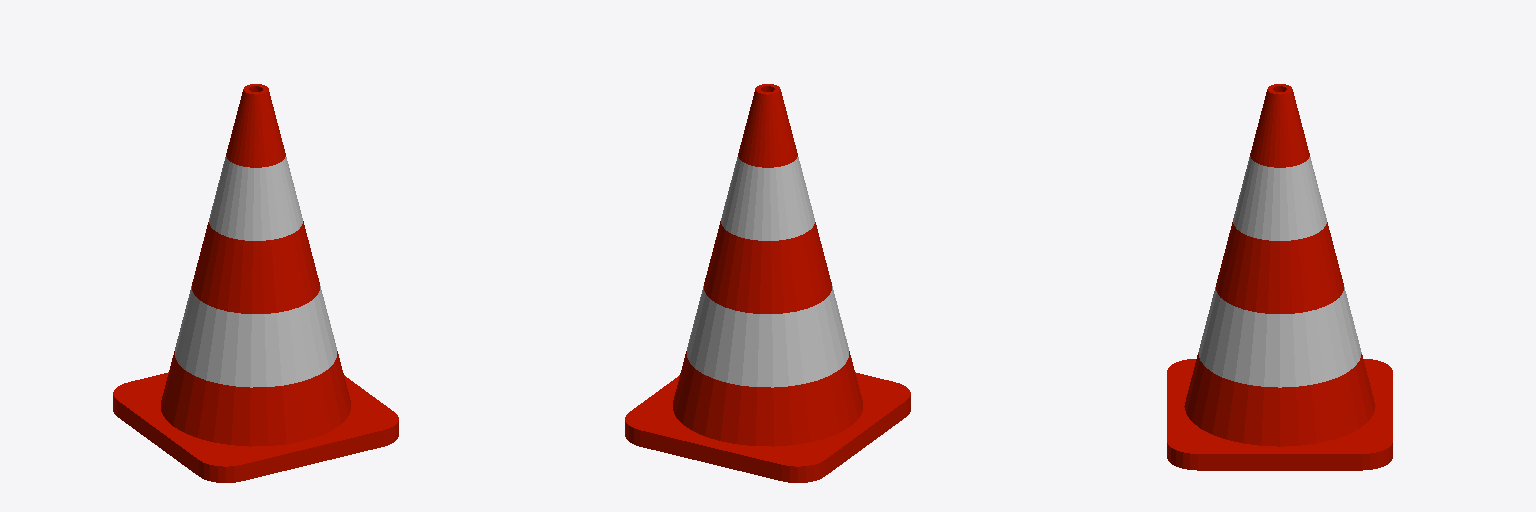
File: traffic_cone.obj
3 renders of one model, left to right at view 1: azimuth 30°, elevation 25°; view 2: azimuth 150°, elevation 25°; view 3: azimuth 270°, elevation 25°, orthographic.
Parts seen in each view (by area): view 1: Cube; view 2: Cube; view 3: Cube.
Part boxes in pixels (x1,y1,x2,y2): Cube: (113, 84, 398, 482); Cube: (625, 84, 910, 482); Cube: (1167, 84, 1392, 470).
Bounding box in the file's own units: 0.8293 × 1.35 × 0.8293.